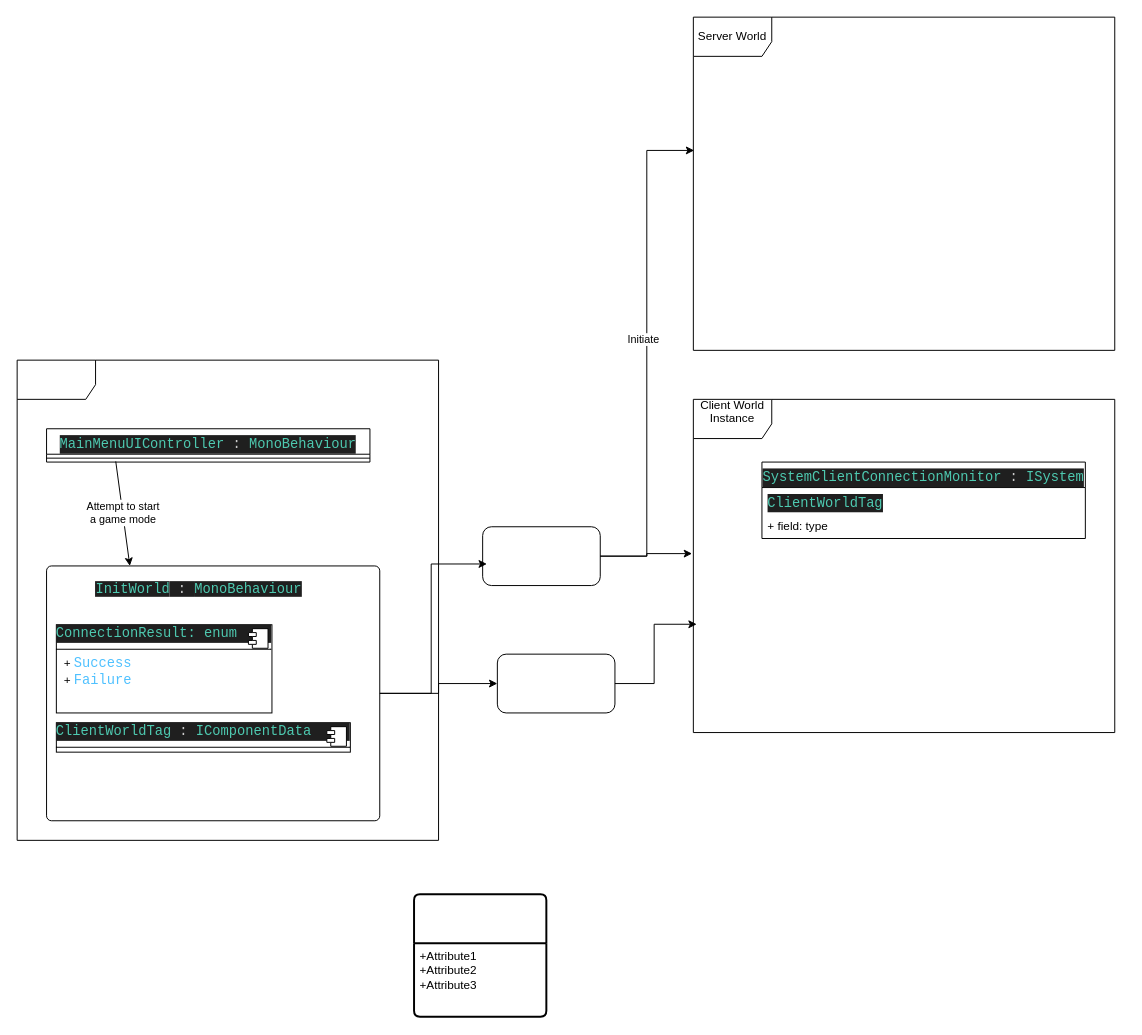
The diagram is 1142 pixels wide and 1035 high, and some of its shapes have lost their labels. Each missing label, with the box of its shape:
Entity: (413, 893, 547, 1017)
Host Game: (482, 526, 600, 586)
Join Game: (496, 653, 615, 713)
Main menu World: (16, 359, 439, 840)
